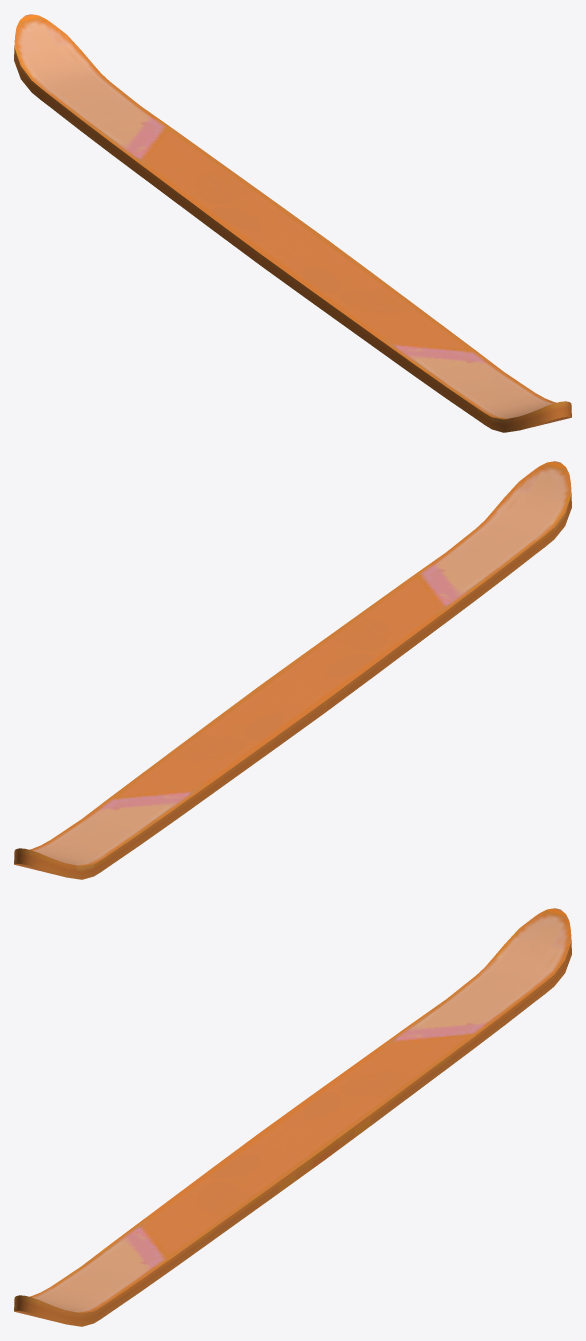
The model's file is pref_sm_beach_winter_hxb04_lv3.fbx.
3 renders of one model, top to bottom at view 1: azimuth 30°, elevation 25°; view 2: azimuth 150°, elevation 25°; view 3: azimuth 330°, elevation 25°, orthographic.
Visible parts, largest first — view 1: pref_sm_beach_winter_hxb04_lv3; view 2: pref_sm_beach_winter_hxb04_lv3; view 3: pref_sm_beach_winter_hxb04_lv3.
Part boxes in pixels (box(x1,y1,x2,y2)): pref_sm_beach_winter_hxb04_lv3: box(14, 14, 571, 432); pref_sm_beach_winter_hxb04_lv3: box(14, 461, 571, 879); pref_sm_beach_winter_hxb04_lv3: box(14, 908, 571, 1326).
Bounding box in the file's own units: 0.2141 × 0.1547 × 3.04.
